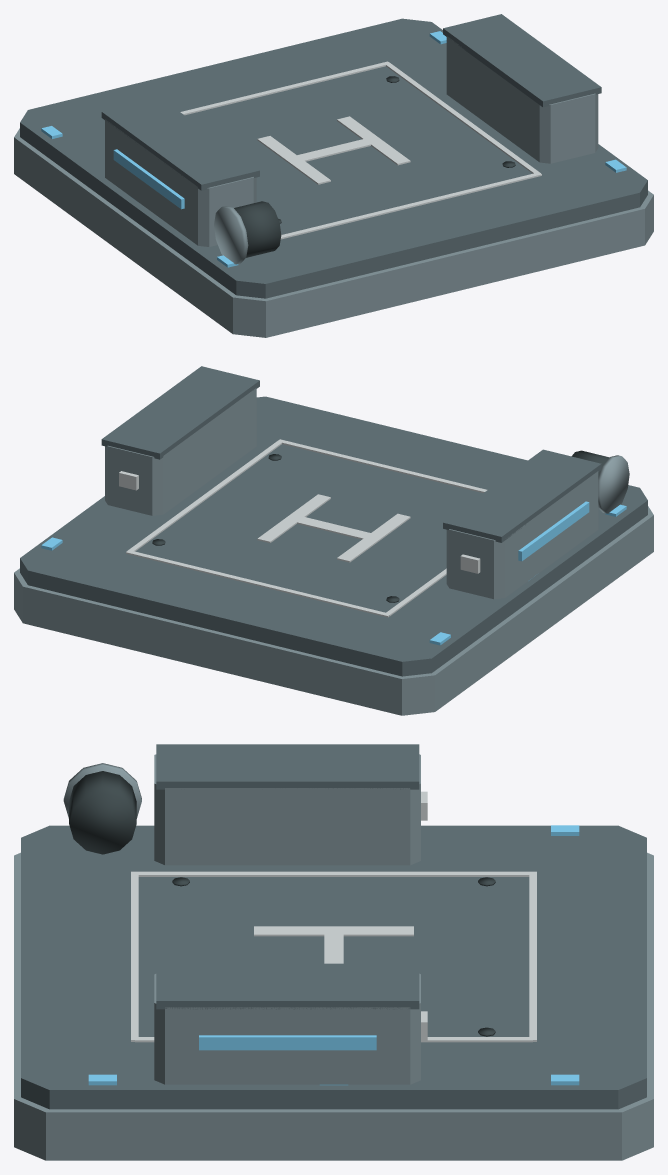
File: MOD_HeliDeck_U1.fbx
3 renders of one model, top to bottom at view 1: azimuth 30°, elevation 25°; view 2: azimuth 150°, elevation 25°; view 3: azimuth 270°, elevation 25°, orthographic. The views are drawn at different scales.
Visible parts, largest first — view 1: LandingSurface, BlockBase, ServicePod.001, ServicePod, ServicePodLid.001, ServicePodLid, FuelHoseReel, ReelEnd, PadBoundary.001, PadBoundary.002, PadBoundary.003, AviationBlueStripe (+3 smaller); view 2: LandingSurface, BlockBase, ServicePod.001, ServicePod, ServicePodLid, ServicePodLid.001, ReelEnd, PadBoundary.003, PadBoundary.002, PadBoundary.001, AviationBlueStripe, HLeg.001 (+2 smaller); view 3: LandingSurface, BlockBase, ServicePod, ServicePod.001, ServicePodLid.001, ServicePodLid, FuelHoseReel, AviationBlueStripe.001, PadBoundary, HLeg, PadBoundary.001, PadBoundary.003 (+3 smaller).
Part boxes in pixels (x1,y1,x2,y2): LandingSurface: (20, 18, 647, 298); BlockBase: (14, 128, 653, 337); ServicePod.001: (446, 36, 598, 163); ServicePod: (105, 119, 256, 246); ServicePodLid.001: (443, 14, 601, 107); ServicePodLid: (101, 97, 259, 190); FuelHoseReel: (234, 201, 281, 257); ReelEnd: (214, 206, 248, 264); PadBoundary.001: (280, 173, 541, 239); PadBoundary.002: (385, 62, 540, 173); PadBoundary.003: (180, 61, 388, 115); AviationBlueStripe: (113, 149, 184, 209); LandingSurface: (20, 396, 647, 676); BlockBase: (14, 506, 653, 715); ServicePod.001: (105, 388, 256, 515); ServicePod: (446, 471, 598, 599); ServicePodLid: (443, 449, 601, 542); ServicePodLid.001: (101, 366, 259, 459); ReelEnd: (598, 455, 629, 513); PadBoundary.003: (126, 550, 389, 617); PadBoundary.002: (127, 440, 282, 551); PadBoundary.001: (278, 439, 487, 492); AviationBlueStripe: (518, 501, 589, 561); HLeg.001: (257, 494, 330, 542); LandingSurface: (21, 825, 646, 1109); BlockBase: (14, 852, 653, 1160); ServicePod: (154, 754, 420, 865); ServicePod.001: (154, 973, 420, 1084); ServicePodLid.001: (156, 963, 419, 1009); ServicePodLid: (156, 744, 419, 789); FuelHoseReel: (69, 771, 136, 854); AviationBlueStripe.001: (199, 1035, 376, 1050); PadBoundary: (135, 871, 532, 876); HLeg: (254, 926, 413, 936); PadBoundary.001: (131, 871, 138, 1041); PadBoundary.003: (529, 871, 536, 1041).
Size of the model in its own units: 180 by 47.45 by 180.
